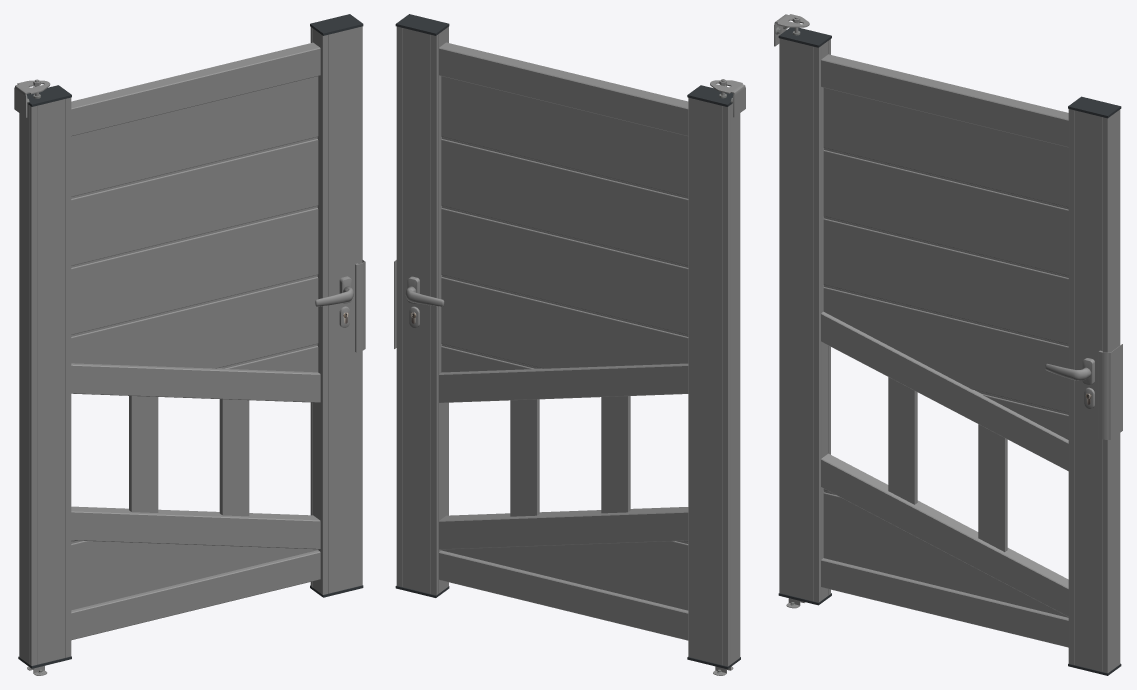
3 views of the same model, side by side, from view 1: azimuth 30°, elevation 25°; view 2: azimuth 150°, elevation 25°; view 3: azimuth 330°, elevation 25° (orthographic).
Visible parts, largest first — view 1: Shape107412643, Shape107412644, Shape107412648, Shape107412649, Shape107412650, Shape107412647, Shape107411720, Shape163, Shape107411691, Shape170, Shape164, Shape107411729 (+6 smaller); view 2: Shape107412643, Shape107412644, Shape107412648, Shape107412649, Shape107412650, Shape107412647, Shape107411720, Shape163, Shape107411691, Shape170, Shape164, Shape107411729 (+5 smaller); view 3: Shape107412644, Shape107412643, Shape107412648, Shape107412649, Shape107412650, Shape107412647, Shape107411691, Shape107411720, Shape163, Shape170, Shape164, Shape107411730 (+5 smaller).
Part boxes in pixels (bbox=[...]): Shape107412643: bbox=[19, 97, 71, 665]; Shape107412644: bbox=[310, 26, 362, 594]; Shape107412648: bbox=[71, 208, 318, 336]; Shape107412649: bbox=[71, 139, 318, 267]; Shape107412650: bbox=[71, 76, 318, 198]; Shape107412647: bbox=[71, 277, 318, 368]; Shape107411720: bbox=[71, 541, 318, 610]; Shape163: bbox=[71, 42, 320, 136]; Shape107411691: bbox=[71, 506, 320, 549]; Shape170: bbox=[71, 363, 320, 402]; Shape164: bbox=[71, 550, 320, 640]; Shape107411729: bbox=[219, 399, 249, 516]; Shape107412643: bbox=[688, 97, 740, 666]; Shape107412644: bbox=[396, 26, 448, 595]; Shape107412648: bbox=[441, 208, 688, 336]; Shape107412649: bbox=[441, 139, 688, 267]; Shape107412650: bbox=[441, 76, 688, 198]; Shape107412647: bbox=[441, 277, 688, 368]; Shape107411720: bbox=[441, 541, 688, 610]; Shape163: bbox=[439, 42, 688, 135]; Shape107411691: bbox=[439, 507, 688, 549]; Shape170: bbox=[439, 363, 688, 402]; Shape164: bbox=[439, 550, 688, 640]; Shape107411729: bbox=[510, 399, 539, 516]; Shape107412644: bbox=[1068, 109, 1120, 672]; Shape107412643: bbox=[779, 38, 830, 602]; Shape107412648: bbox=[823, 218, 1068, 346]; Shape107412649: bbox=[823, 150, 1068, 277]; Shape107412650: bbox=[823, 88, 1068, 209]; Shape107412647: bbox=[823, 287, 1068, 414]; Shape107411691: bbox=[821, 453, 1068, 616]; Shape107411720: bbox=[823, 492, 1068, 617]; Shape163: bbox=[821, 54, 1068, 147]; Shape170: bbox=[821, 311, 1068, 471]; Shape164: bbox=[821, 558, 1068, 647]; Shape107411730: bbox=[888, 377, 917, 504].
Size of the model in its own units: 1014 by 1688 by 171.
Materials: 8 (4 with a texture image).
